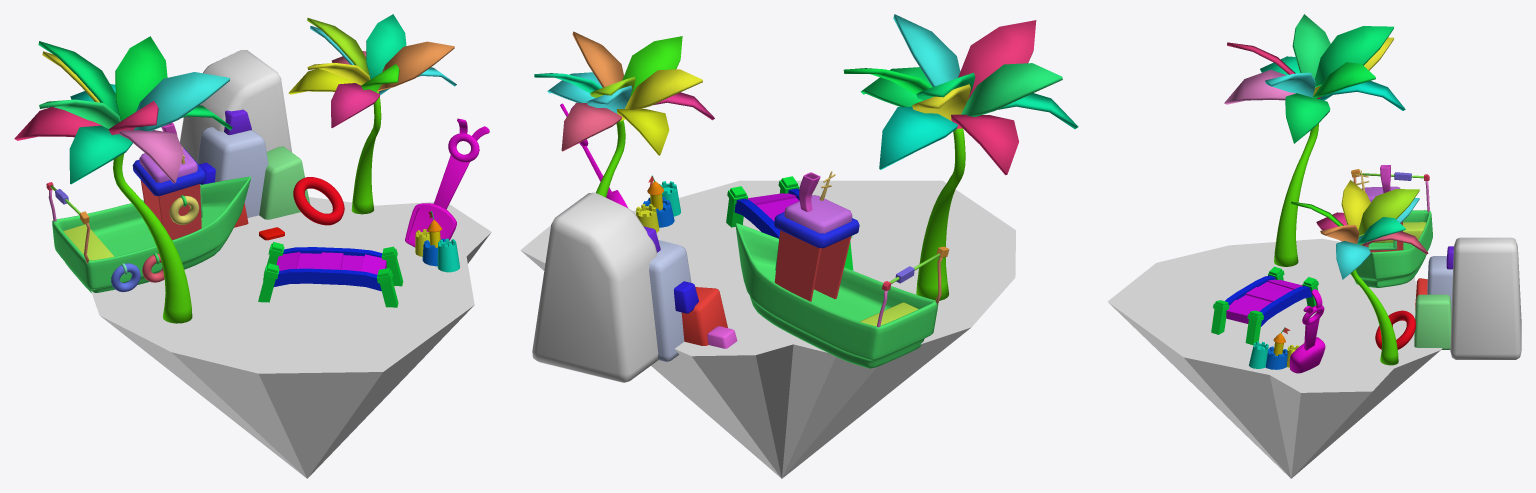
File: isla_limpia.fbx
3 views of the same model, side by side, from view 1: azimuth 30°, elevation 25°; view 2: azimuth 150°, elevation 25°; view 3: azimuth 270°, elevation 25° (orthographic). The views are drawn at different scales.
Parts seen in each view (by area): view 1: MainIsland.001, Cube.199, Cube.007, Cube.003, Cylinder.026, Box019, Plane.036, Plane.044, Cube.006, Cube.231, Plane.043, Cube.218 (+23 smaller); view 2: MainIsland.001, Cube.007, Cube.199, Cube.164, Cube.003, Cylinder.026, Plane.038, Plane.035, Plane.041, Plane.036, Plane.042, Cube.229 (+20 smaller); view 3: MainIsland.001, Cube.007, Cube.199, Plane.039, Cylinder.026, Cube.006, Box019, Plane.038, Plane.040, Cube.232, Cube.218, Plane.030 (+15 smaller).
Boxes of the visible parts, x1=… form: MainIsland.001: x1=91, y1=197, x2=491, y2=478; Cube.199: x1=52, y1=176, x2=250, y2=292; Cube.007: x1=179, y1=50, x2=291, y2=162; Cube.003: x1=197, y1=127, x2=268, y2=217; Cylinder.026: x1=113, y1=153, x2=192, y2=323; Box019: x1=405, y1=118, x2=489, y2=247; Plane.036: x1=134, y1=72, x2=229, y2=131; Plane.044: x1=115, y1=36, x2=167, y2=120; Cube.006: x1=259, y1=146, x2=309, y2=219; Cube.231: x1=274, y1=247, x2=382, y2=291; Plane.043: x1=69, y1=125, x2=132, y2=184; Cube.218: x1=258, y1=242, x2=403, y2=307; MainIsland.001: x1=520, y1=180, x2=1015, y2=478; Cube.007: x1=532, y1=192, x2=658, y2=382; Cube.199: x1=735, y1=223, x2=938, y2=368; Cube.164: x1=774, y1=230, x2=851, y2=301; Cube.003: x1=649, y1=240, x2=691, y2=361; Cylinder.026: x1=916, y1=128, x2=965, y2=300; Plane.038: x1=961, y1=63, x2=1062, y2=116; Plane.035: x1=958, y1=20, x2=1036, y2=99; Plane.041: x1=879, y1=106, x2=957, y2=169; Plane.036: x1=893, y1=14, x2=960, y2=86; Plane.042: x1=951, y1=114, x2=1018, y2=175; Cube.229: x1=681, y1=287, x2=727, y2=345; MainIsland.001: x1=1107, y1=238, x2=1442, y2=478; Cube.007: x1=1450, y1=237, x2=1521, y2=359; Cube.199: x1=1350, y1=210, x2=1432, y2=287; Plane.039: x1=1314, y1=26, x2=1393, y2=87; Cylinder.026: x1=1274, y1=123, x2=1318, y2=266; Cube.006: x1=1414, y1=294, x2=1451, y2=349; Box019: x1=1289, y1=289, x2=1325, y2=373; Plane.038: x1=1292, y1=14, x2=1330, y2=93; Plane.040: x1=1285, y1=93, x2=1330, y2=143; Cube.232: x1=1226, y1=279, x2=1302, y2=323; Cube.218: x1=1211, y1=266, x2=1318, y2=345; Plane.030: x1=1358, y1=189, x2=1419, y2=236.
Size of the model in its own units: 2646 by 2489 by 2528.
